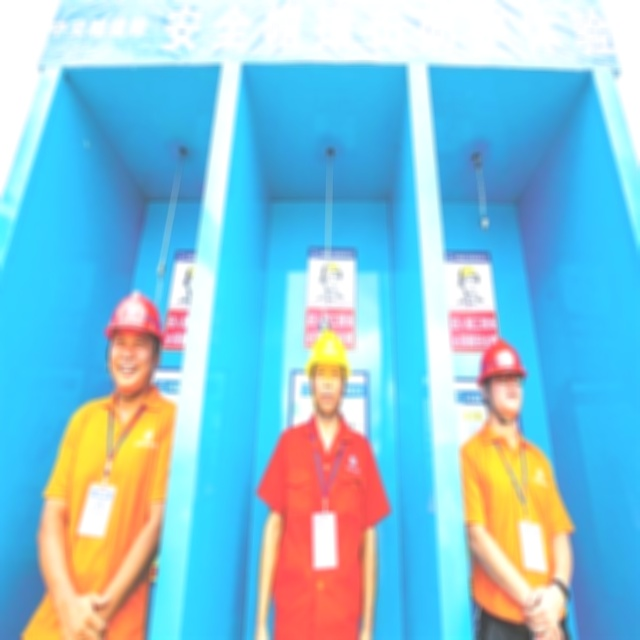Con_Casco: (108, 292, 160, 390), (479, 338, 524, 420), (308, 329, 349, 415)
Sin_Chaleco: (271, 419, 371, 640), (467, 430, 564, 630)
